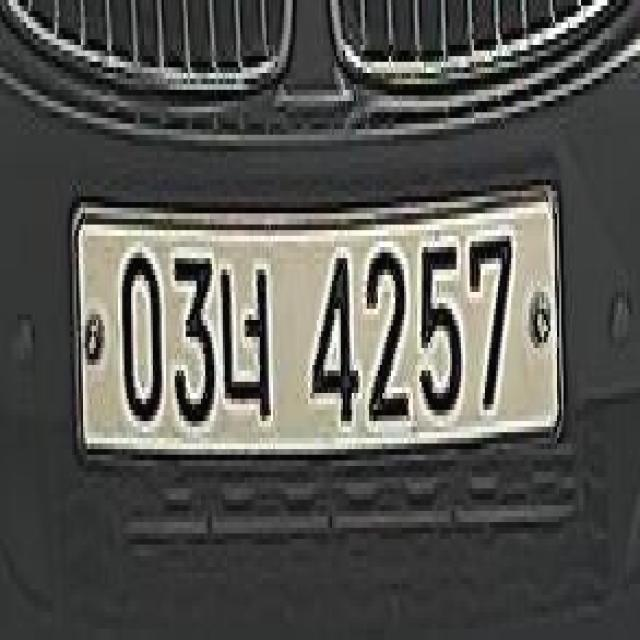illegal_plate: (73, 182, 562, 489)
